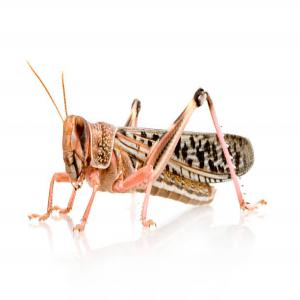locust: (44, 88, 269, 218)
